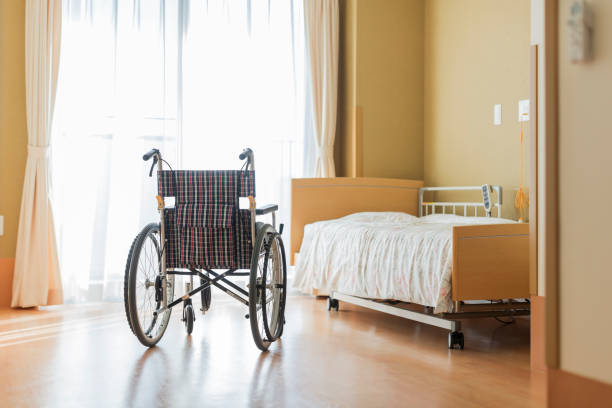wheel_chair: (89, 131, 321, 359)
